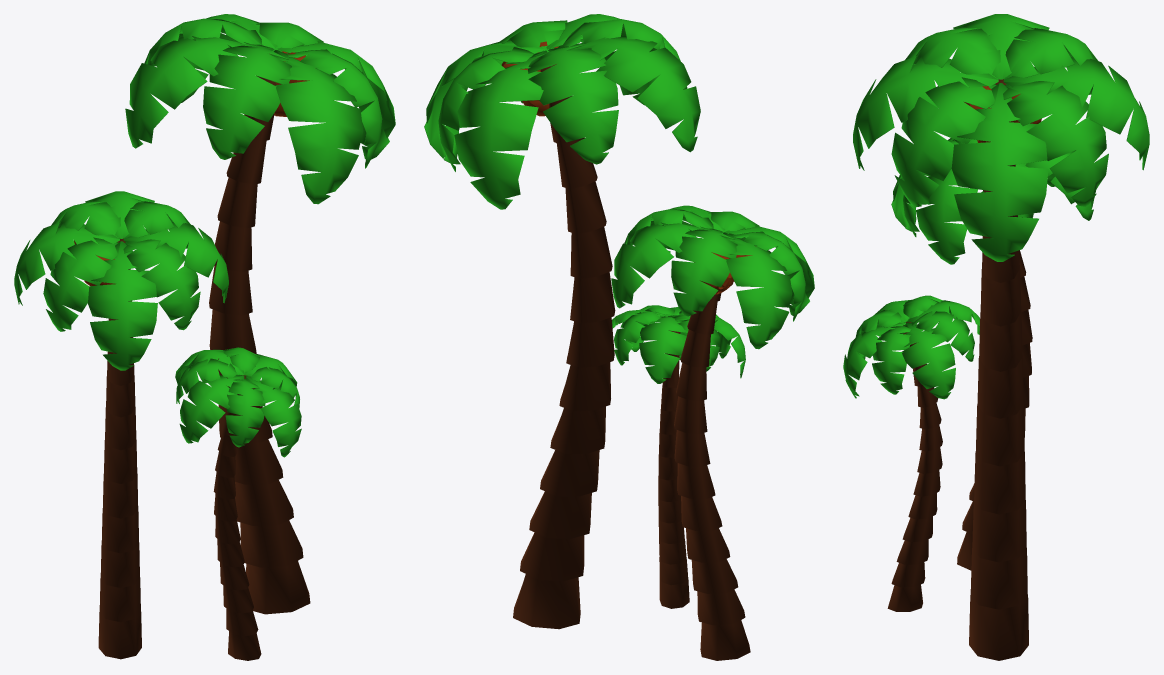
File: coqueirotriplo.fbx
3 views of the same model, side by side, from view 1: azimuth 30°, elevation 25°; view 2: azimuth 150°, elevation 25°; view 3: azimuth 270°, elevation 25° (orthographic). The views are drawn at different scales.
Visible parts, largest first — view 1: Sphere.007; view 2: Sphere.007; view 3: Sphere.007.
Boxes of the visible parts, x1=… form: Sphere.007: x1=14, y1=14, x2=395, y2=660; Sphere.007: x1=424, y1=14, x2=814, y2=660; Sphere.007: x1=843, y1=14, x2=1149, y2=660.
Bounding box in the file's own units: 1382 × 2154 × 1019.
2 materials, 2 textured.
